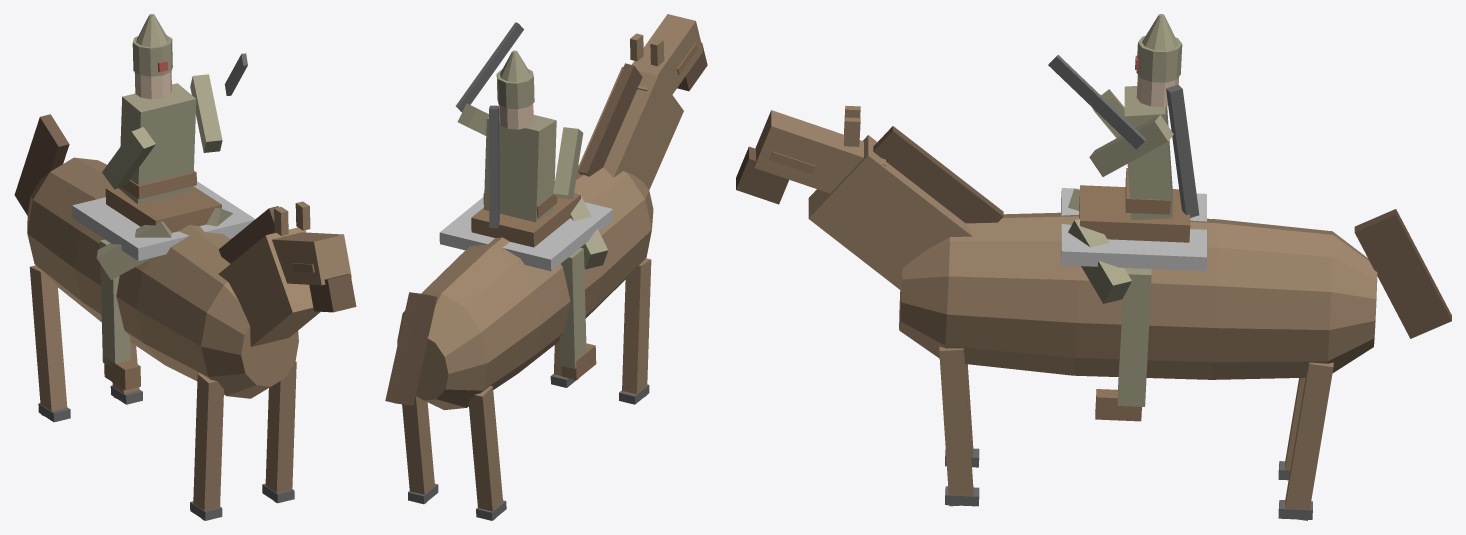
Rendered from cavalry_ussr.glb.
The picture shows the model from 3 angles, left to right: view 1: azimuth 30°, elevation 25°; view 2: azimuth 150°, elevation 25°; view 3: azimuth 270°, elevation 25°; orthographic projection. The views are drawn at different scales.
Parts seen in each view (by area): view 1: HorseBody, Neck, Torso, SaddleBlanket, Leg.001, Leg, Head, Leg.002, Saddle, Tail, Shin, ArmL (+11 smaller); view 2: HorseBody, Torso, Neck, SaddleBlanket, Tail, Leg, Leg.001, Head, Mane, Saddle, Leg.003, Shin (+10 smaller); view 3: HorseBody, Neck, Tail, Head, SaddleBlanket, Mane, Saddle, Leg.003, Leg.002, Shin.001, Torso, Carbine (+9 smaller).
Part boxes in pixels (left/top/right/bottom): HorseBody: left=27, top=157, right=298, bottom=398; Neck: left=218, top=227, right=320, bottom=346; Torso: left=119, top=83, right=196, bottom=204; SaddleBlanket: left=72, top=181, right=255, bottom=260; Leg.001: left=29, top=265, right=67, bottom=415; Leg: left=193, top=373, right=223, bottom=520; Head: left=272, top=232, right=351, bottom=285; Leg.002: left=265, top=361, right=296, bottom=502; Saddle: left=105, top=186, right=221, bottom=232; Tail: left=14, top=114, right=69, bottom=215; Shin: left=100, top=239, right=130, bottom=368; ArmL: left=102, top=127, right=155, bottom=189; HorseBody: left=397, top=165, right=653, bottom=410; Torso: left=484, top=115, right=556, bottom=222; Neck: left=578, top=66, right=683, bottom=190; SaddleBlanket: left=439, top=197, right=613, bottom=271; Tail: left=385, top=292, right=436, bottom=405; Leg: left=622, top=258, right=651, bottom=396; Leg.001: left=468, top=386, right=503, bottom=520; Head: left=632, top=14, right=703, bottom=94; Mane: left=578, top=63, right=642, bottom=176; Saddle: left=471, top=193, right=580, bottom=247; Leg.003: left=402, top=395, right=434, bottom=503; Shin: left=559, top=247, right=586, bottom=368; HorseBody: left=899, top=212, right=1377, bottom=379; Neck: left=808, top=135, right=972, bottom=290; Tail: left=1354, top=209, right=1451, bottom=338; Head: left=754, top=110, right=885, bottom=193; SaddleBlanket: left=1061, top=188, right=1206, bottom=271; Mane: left=873, top=126, right=1003, bottom=223; Saddle: left=1079, top=185, right=1190, bottom=242; Leg.003: left=1285, top=362, right=1333, bottom=520; Leg.002: left=939, top=346, right=973, bottom=506; Shin.001: left=1117, top=268, right=1151, bottom=406; Torso: left=1124, top=86, right=1172, bottom=220; Carbine: left=1166, top=84, right=1199, bottom=217.
Size of the model in its own units: 1.28 by 3.47 by 4.67.
